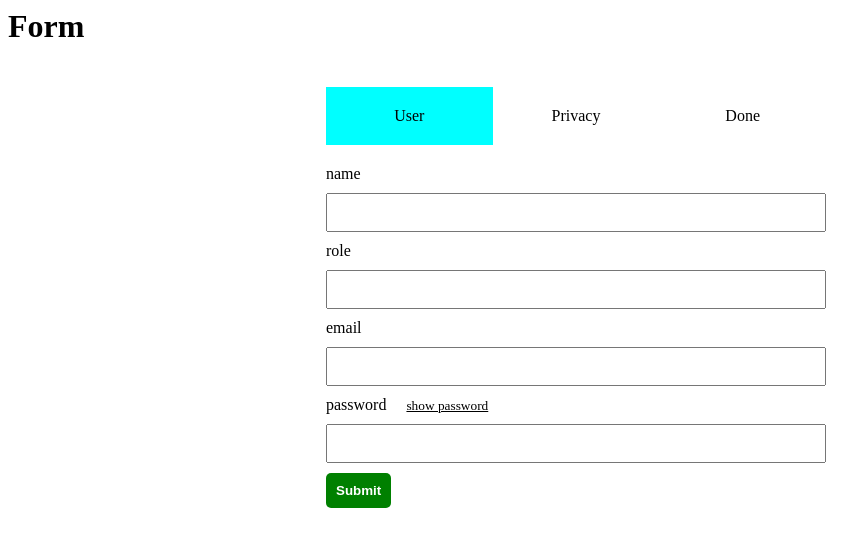
TrayForm › when a user enters a invalid email address › should display an error message
Type "foo@bar" into the field labelled "email". click: (576, 366)
box: x1=326 y1=347 x2=826 y2=386
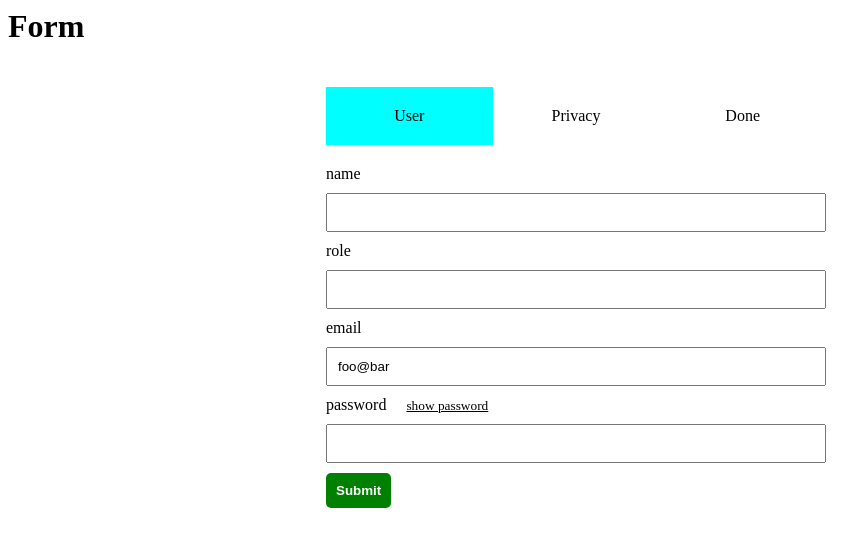
Leave the field labelled "email", box x1=326 y1=347 x2=826 y2=386
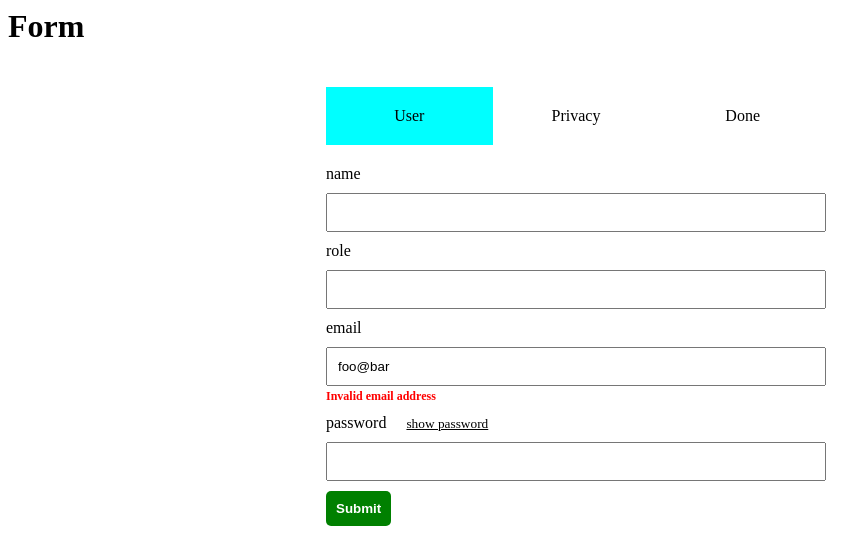
expect the text "Invalid email address" is shown: met, box x1=326 y1=389 x2=436 y2=403
